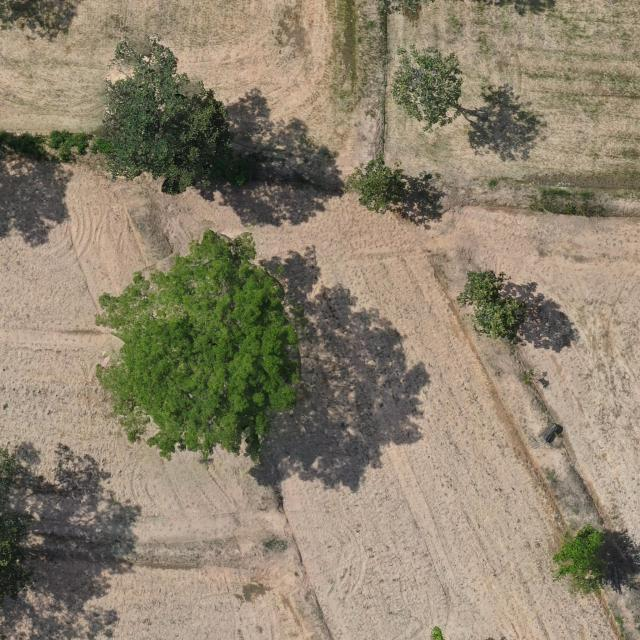Tree: (94, 227, 308, 462), (97, 35, 227, 204), (389, 43, 464, 134), (0, 448, 43, 604), (456, 268, 528, 349), (552, 523, 618, 599), (344, 157, 408, 215)
